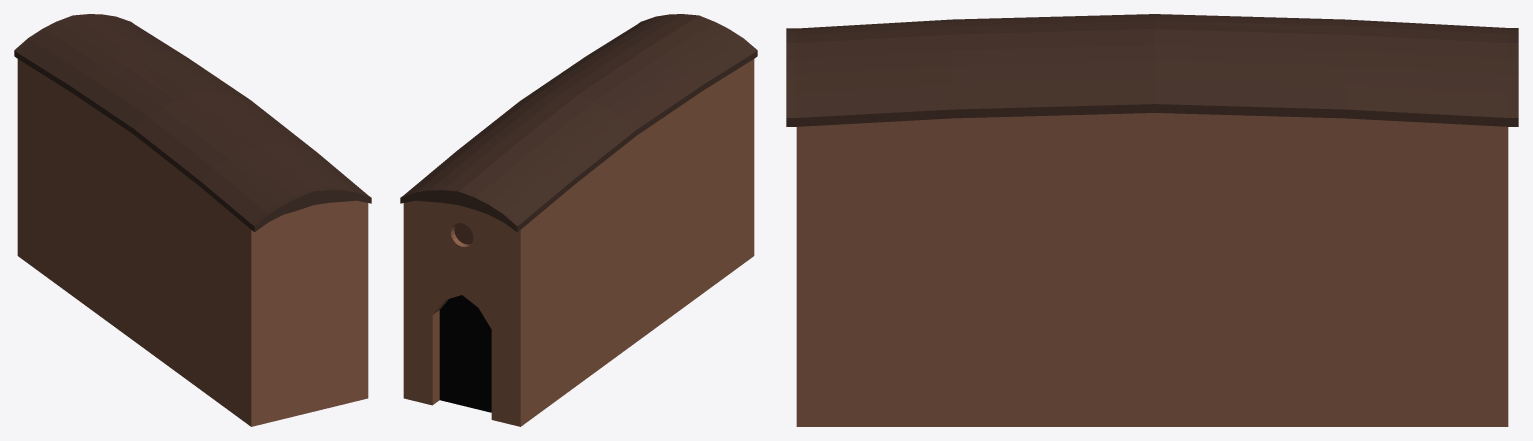
The model's file is vapor3.fbx.
3 renders of one model, left to right at view 1: azimuth 30°, elevation 25°; view 2: azimuth 150°, elevation 25°; view 3: azimuth 270°, elevation 25°, orthographic. The views are drawn at different scales.
Parts seen in each view (by area): view 1: polySurface17; view 2: polySurface17; view 3: polySurface17.
Part boxes in pixels (x1=…): polySurface17: x1=14, y1=14, x2=371, y2=426; polySurface17: x1=400, y1=14, x2=757, y2=426; polySurface17: x1=786, y1=14, x2=1518, y2=426.
Bounding box in the file's own units: 19.77 × 37.57 × 70.36.
